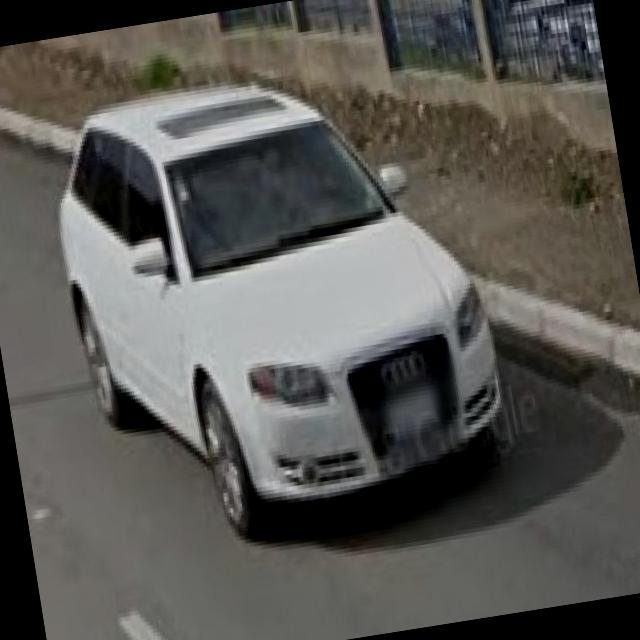car: (41, 41, 522, 556)
